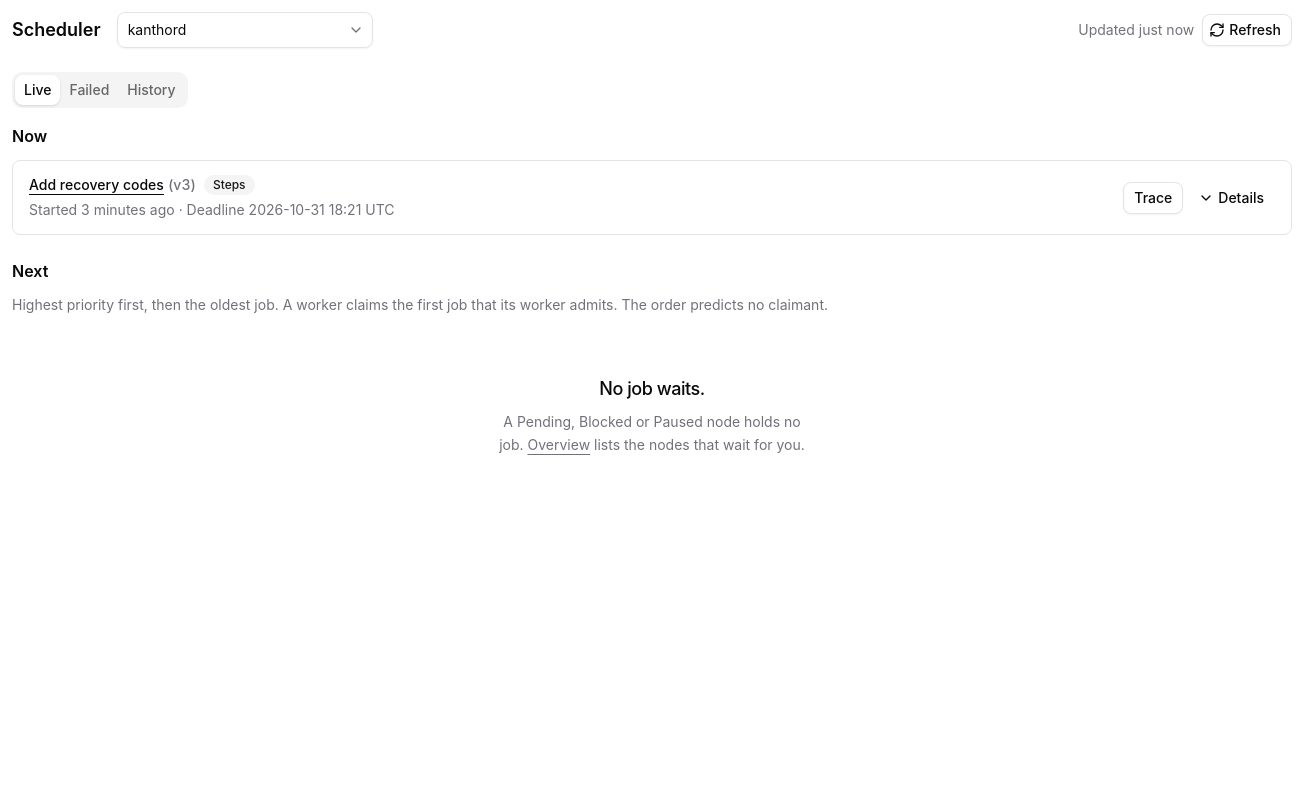
Test: SchedulerScreen states › keeps the last data and names the failure when a later read fails
The width and height of the screenshot is (1304, 812).
Expected: the link "Add recovery codes" is shown, [29,175,164,195]
Click the button "Refresh" at (1247, 30), box [1202,14,1292,46]
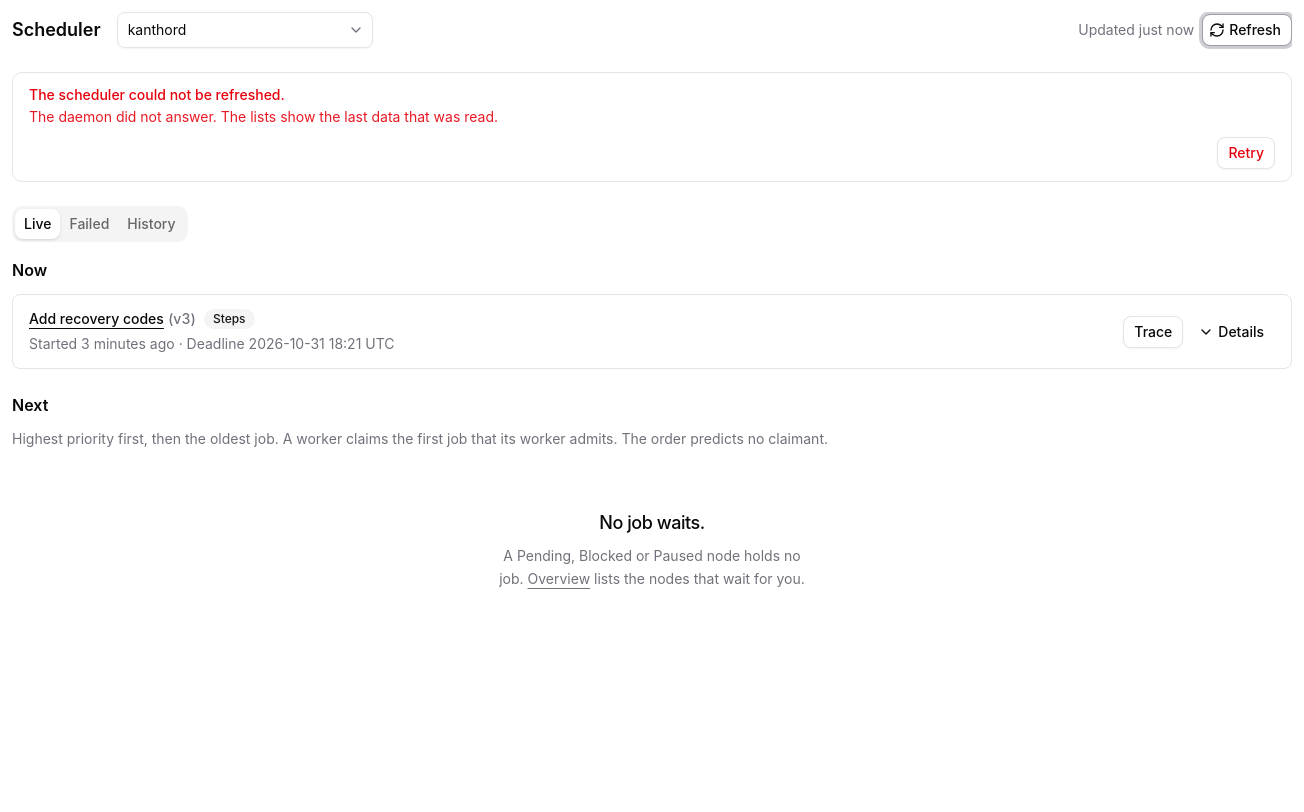
Expected: the link "Add recovery codes" is shown, [29,309,164,329]
Now the text "The scheduler could not be refreshed." is shown, box [29,86,285,103]
